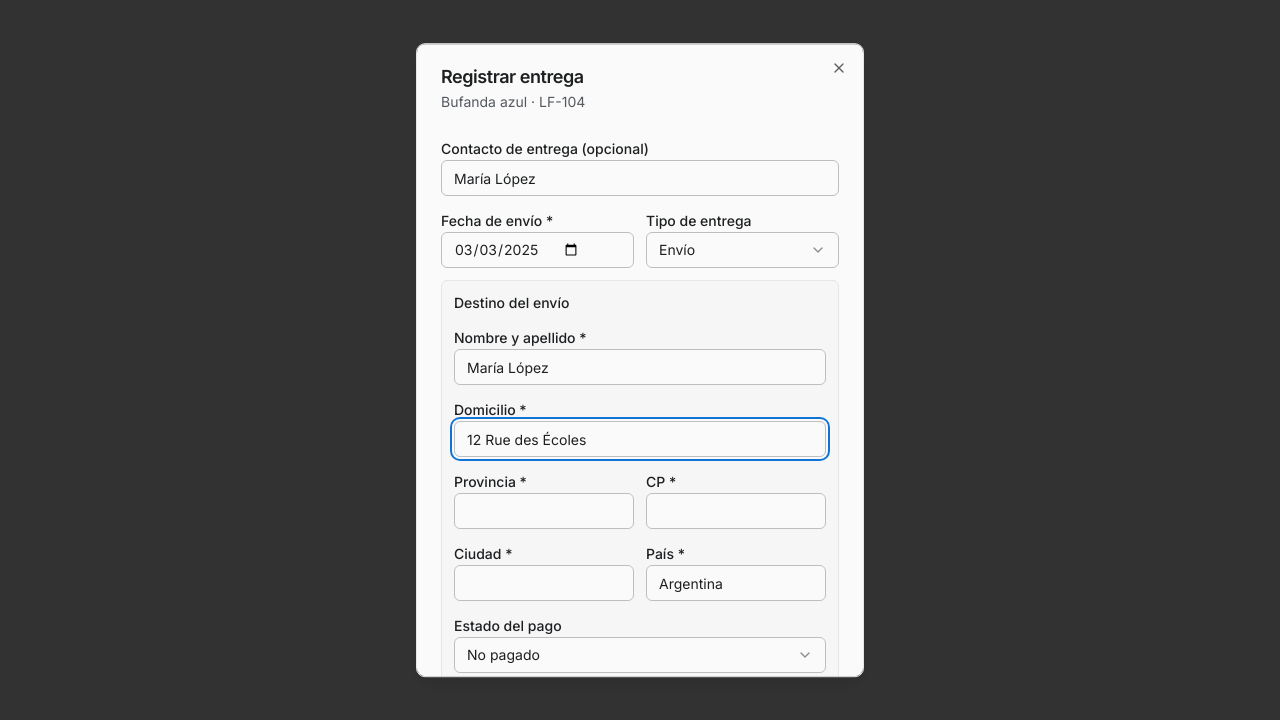
Test: Lost & Found delivery dialog › shows conditional shipping fields, validates required values, and submits paid international shipping with string CP
Earlier steps of the test are not shown.
Later steps or results of the test are not shown.
Type "Île-de-France" into the field with test id "input-shipping-province".
click(544, 511); type("Île-de-France")  # box x1=454 y1=493 x2=634 y2=529
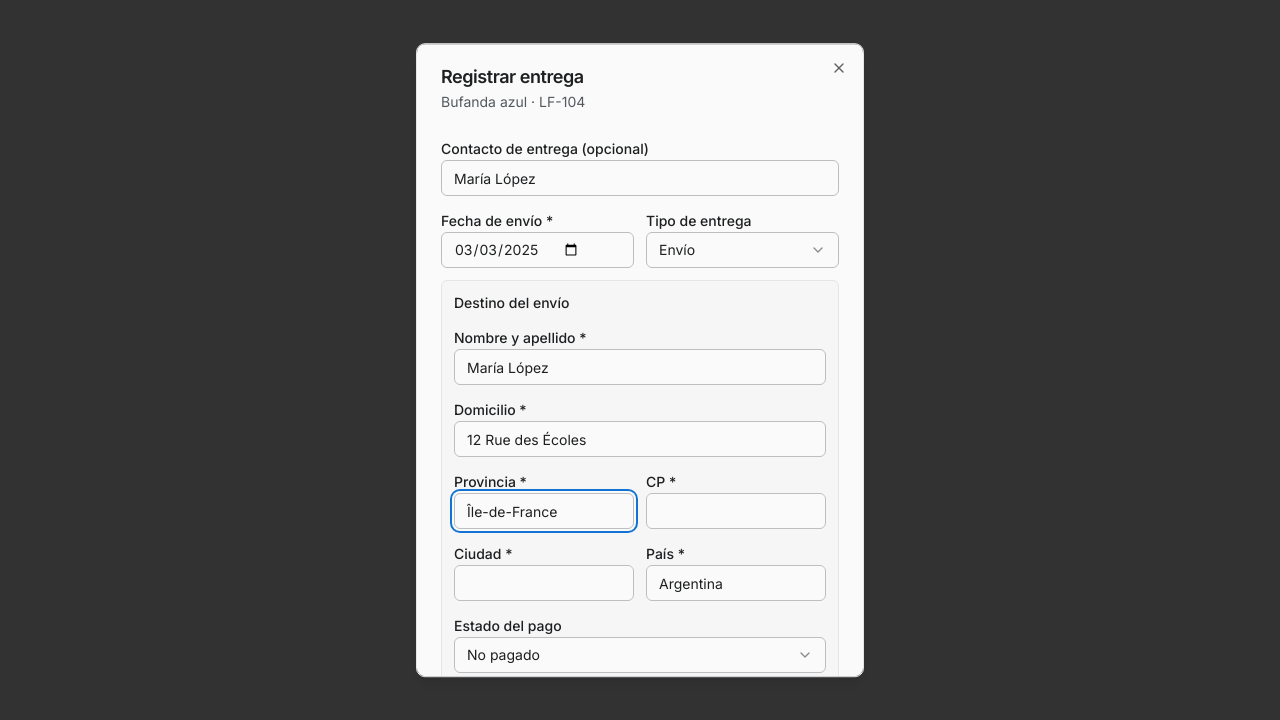
Type "00501" into the field with test id "input-shipping-postal-code".
click(736, 511); type("00501")  # box x1=646 y1=493 x2=826 y2=529
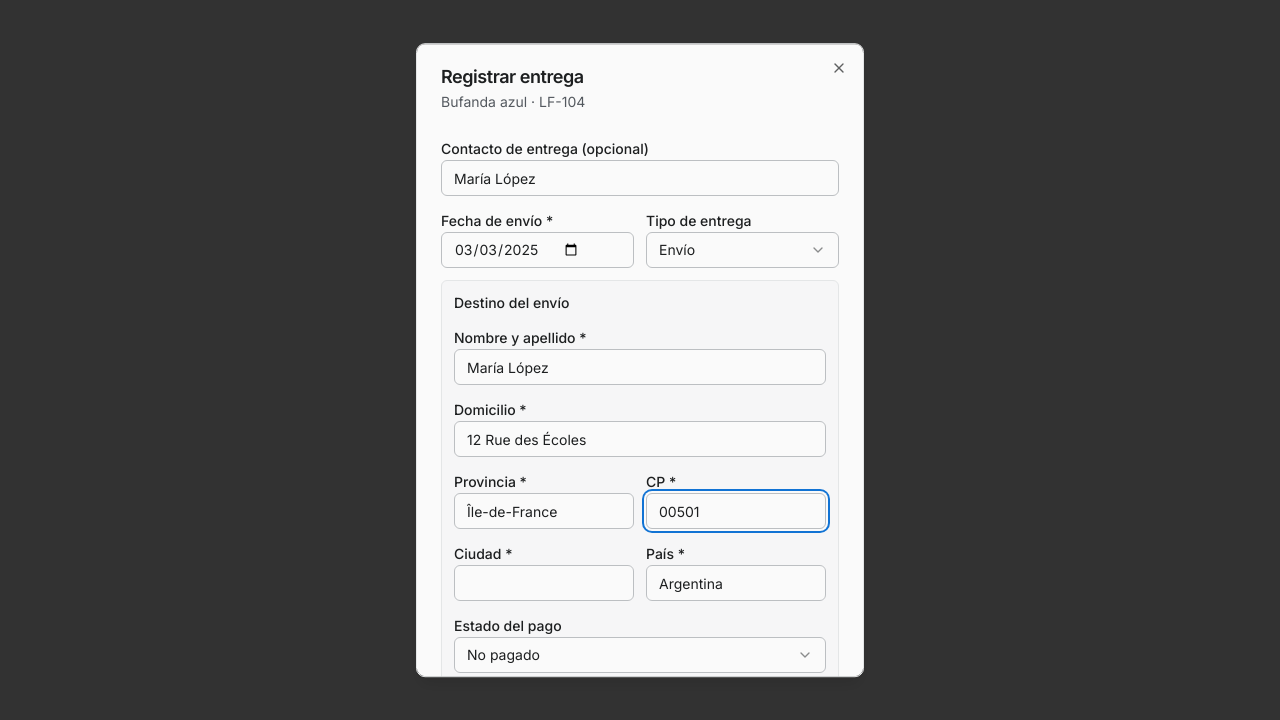
Type "Paris" into the field with test id "input-shipping-city".
click(544, 583); type("Paris")  # box x1=454 y1=565 x2=634 y2=601
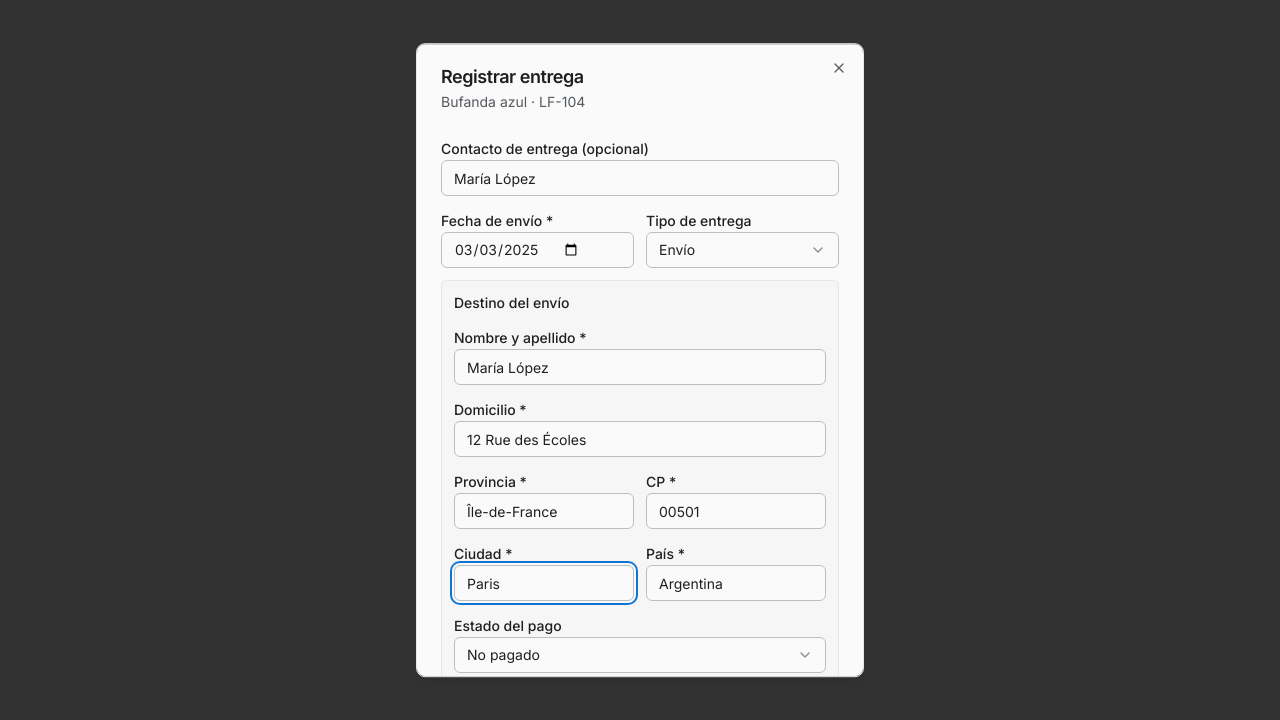
Replace the text in the field with test id "input-shipping-country" with "France" at (736, 583), box x1=646 y1=565 x2=826 y2=601
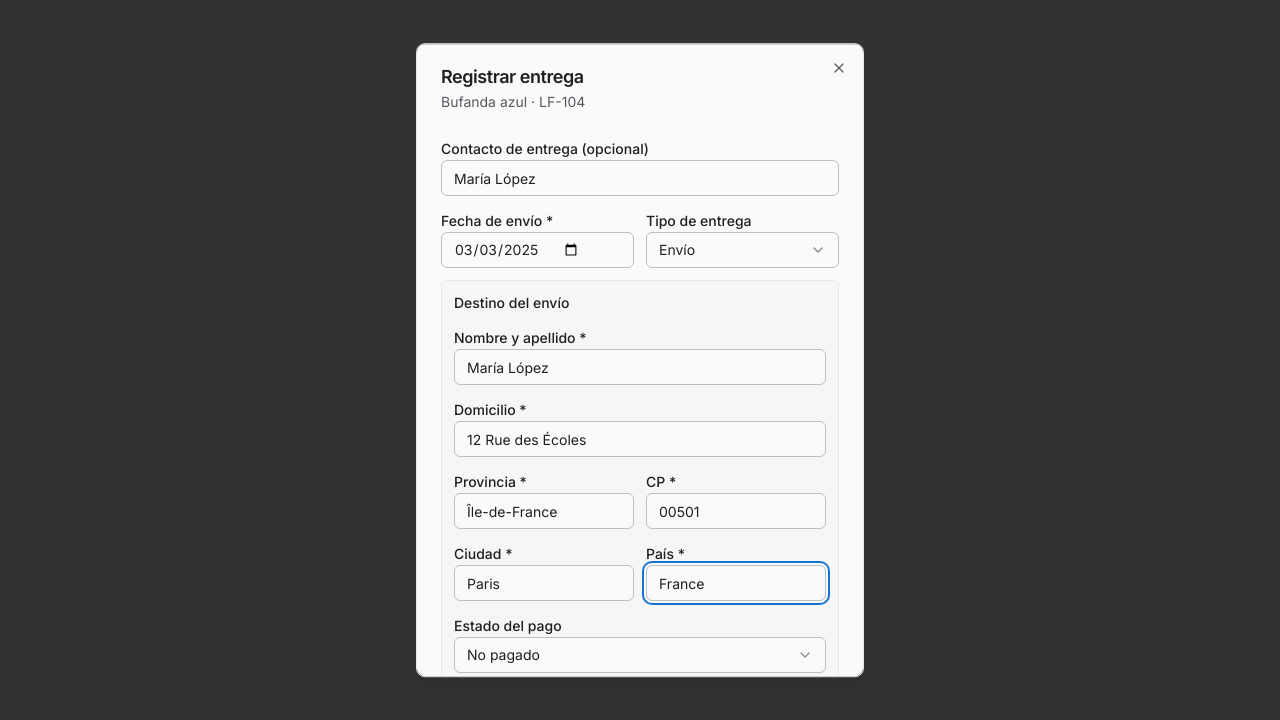
Click the dropdown with test id "select-shipping-payment".
click(503, 655)  # box x1=454 y1=637 x2=826 y2=673
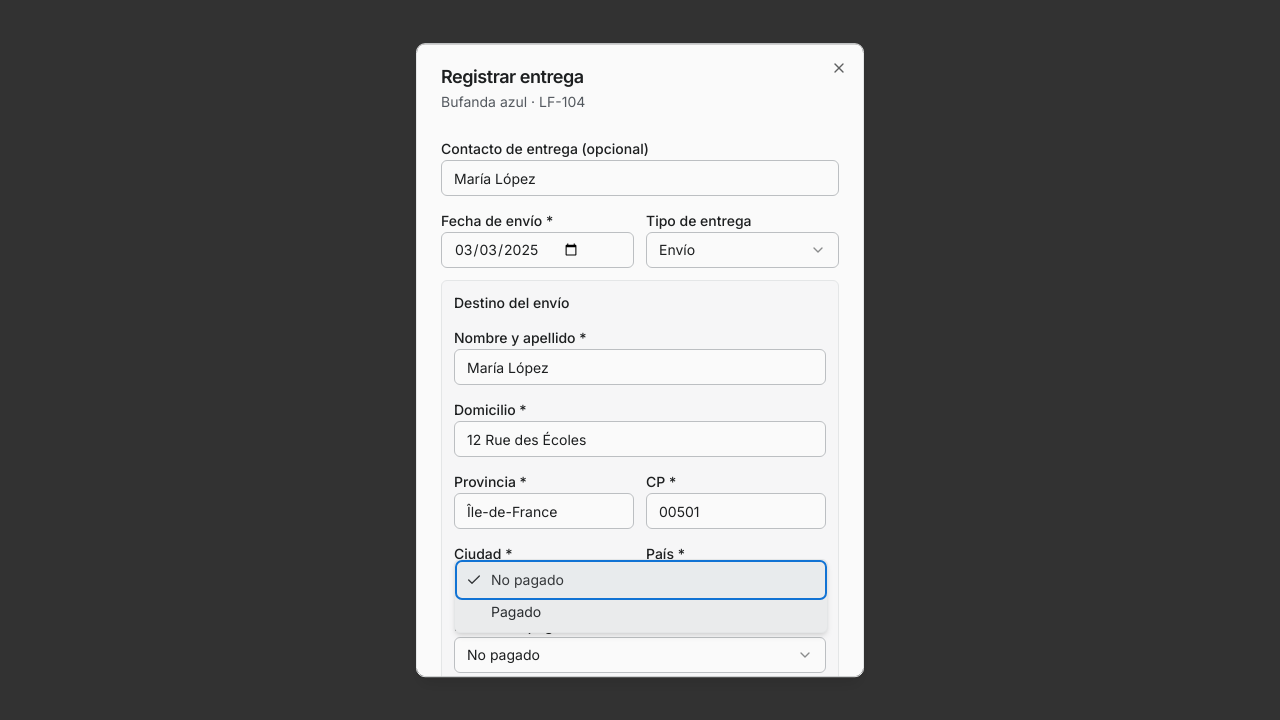
Click the option "Pagado".
click(516, 612)  # box x1=491 y1=603 x2=541 y2=620
(page scrolled)
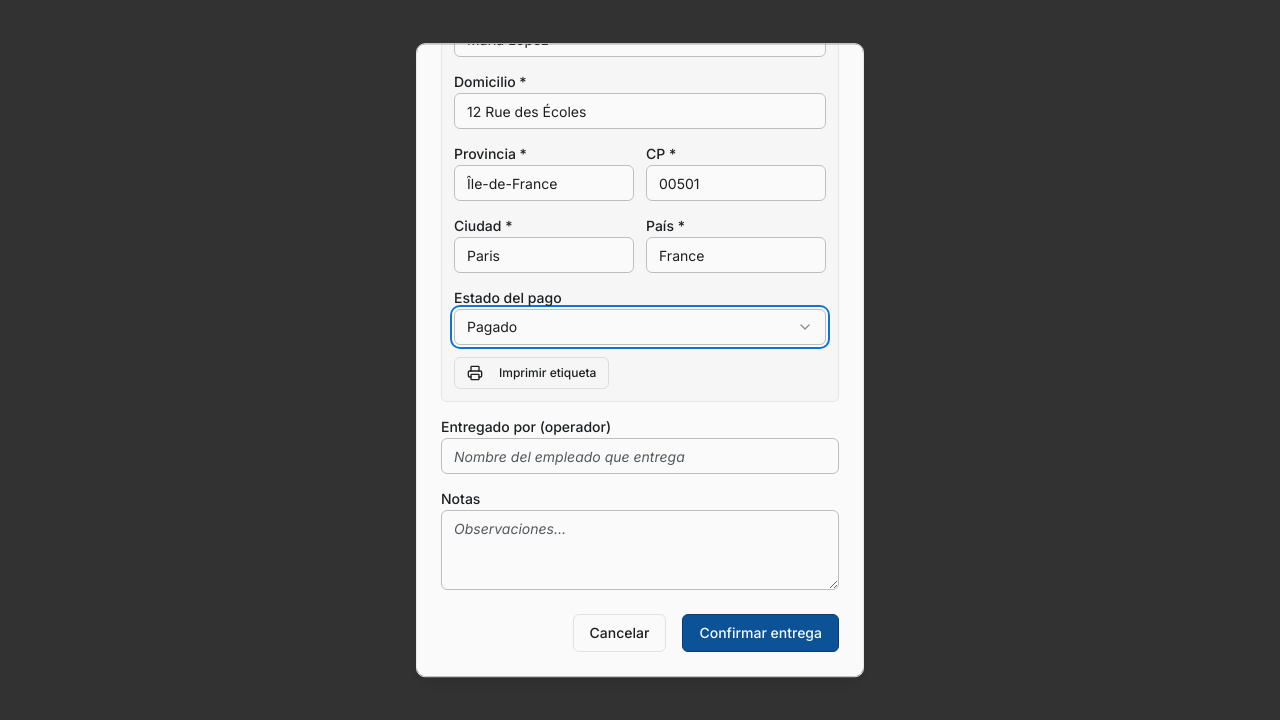
expect the button with test id "button-delivery-confirm" is enabled: met, box x1=682 y1=614 x2=839 y2=652
